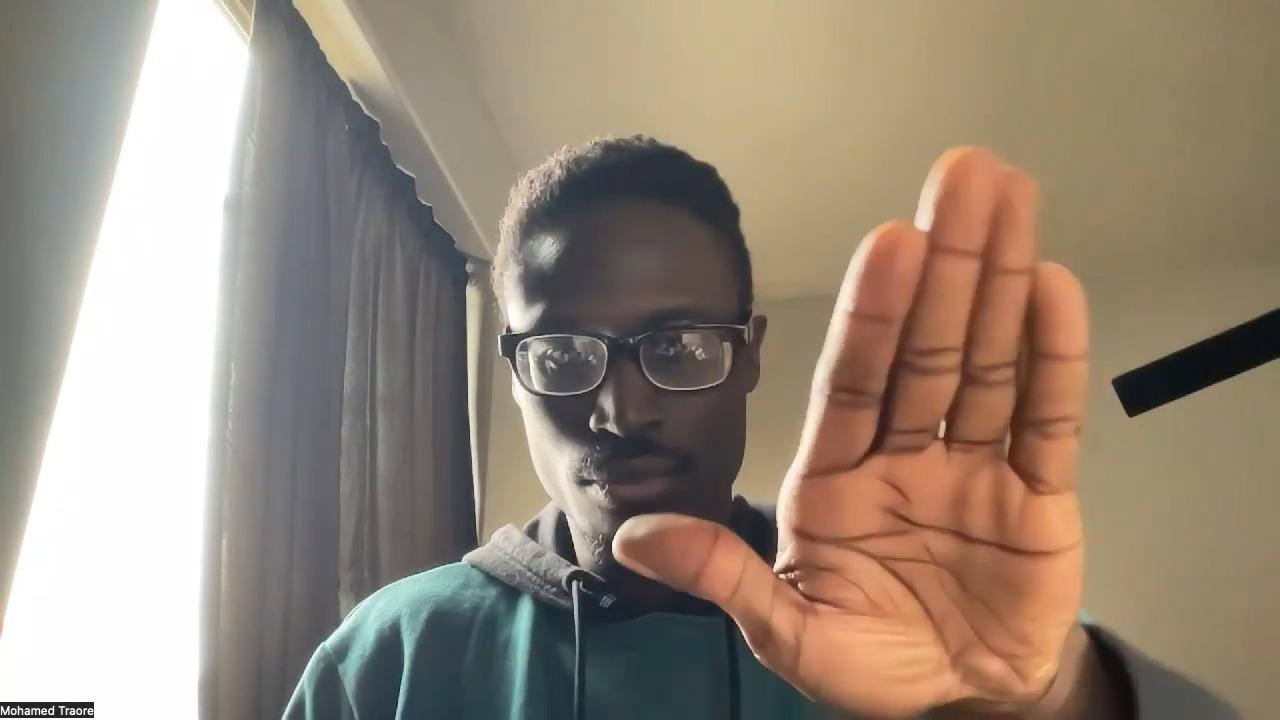Paper: (613, 142, 1093, 720)
